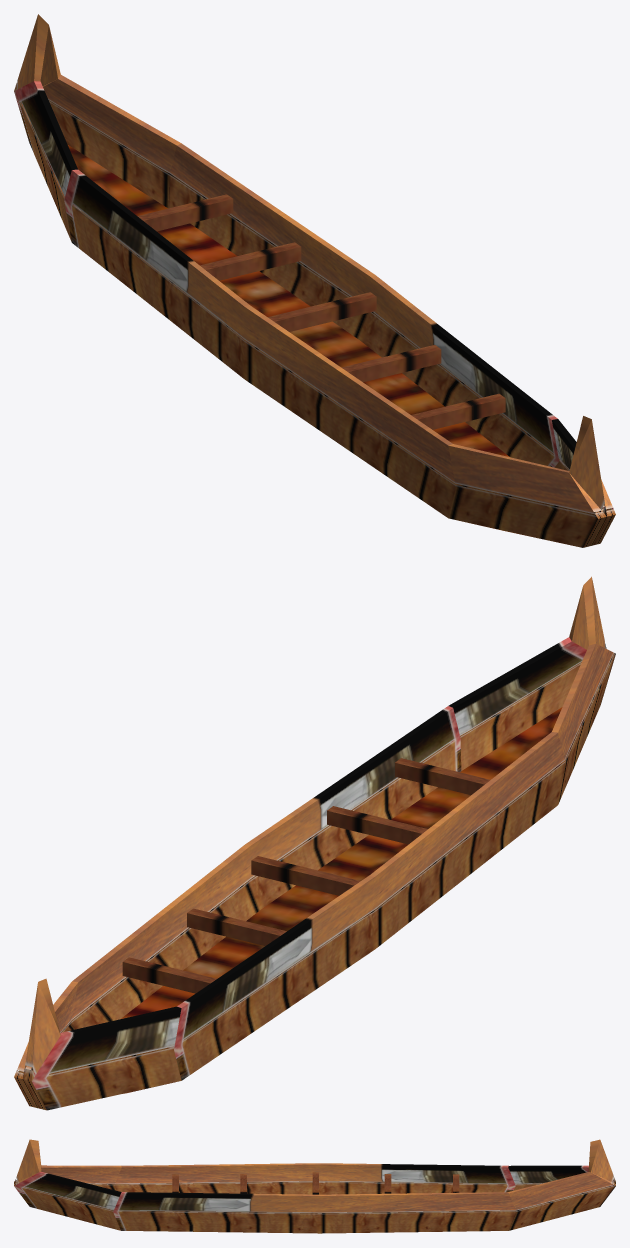
File: canoe_big.dae
3 views of the same model, one above another, from view 1: azimuth 30°, elevation 25°; view 2: azimuth 150°, elevation 25°; view 3: azimuth 270°, elevation 25° (orthographic). The views are drawn at different scales.
Parts seen in each view (by area): view 1: a-canoe_big_01; view 2: a-canoe_big_01; view 3: a-canoe_big_01.
Part boxes in pixels (x1,y1,x2,y2): a-canoe_big_01: (14,14,615,547); a-canoe_big_01: (14,576,615,1110); a-canoe_big_01: (14,1139,615,1233).
Bounding box in the file's own units: 2.33 × 18.03 × 3.
